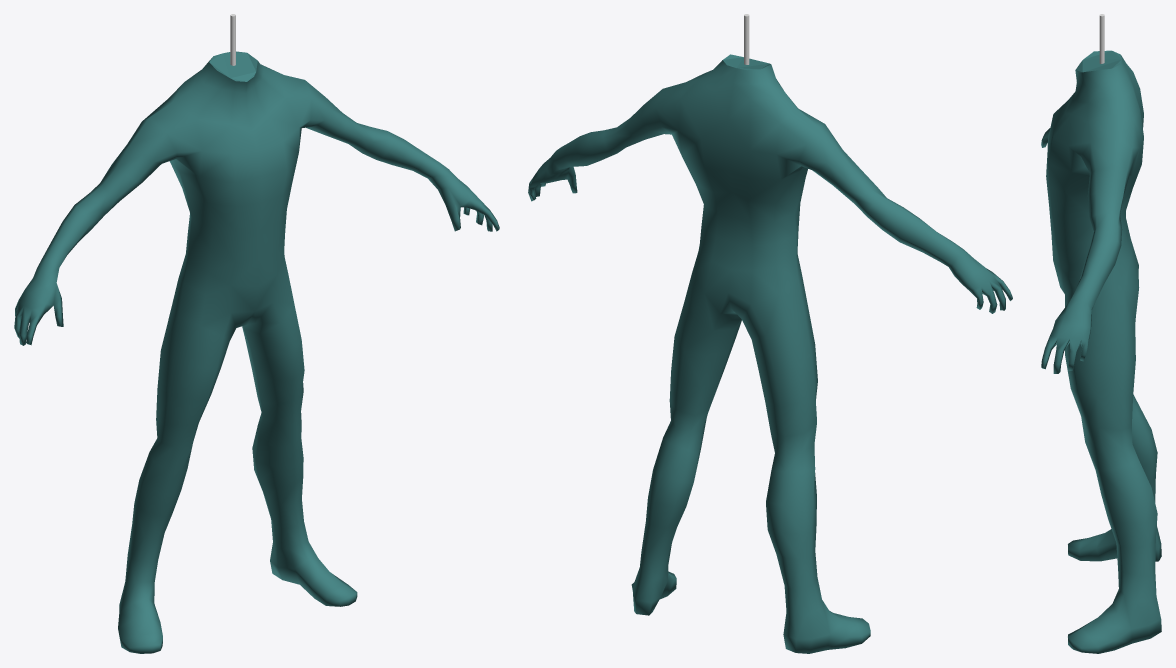
Rendered from player.fbx.
The picture shows the model from 3 angles, left to right: view 1: azimuth 30°, elevation 25°; view 2: azimuth 150°, elevation 25°; view 3: azimuth 270°, elevation 25°; orthographic projection. The views are drawn at different scales.
Visible parts, largest first — view 1: Human_BaseMesh; view 2: Human_BaseMesh; view 3: Human_BaseMesh, head.
Part boxes in pixels (box(x1,y1,x2,y2)): Human_BaseMesh: box(14, 51, 499, 653); Human_BaseMesh: box(528, 54, 1012, 653); Human_BaseMesh: box(1041, 50, 1161, 653); head: box(1099, 14, 1104, 63).
Bounding box in the file's own units: 53.6 × 65.54 × 12.2.
Materials: 1 (1 with a texture image).
